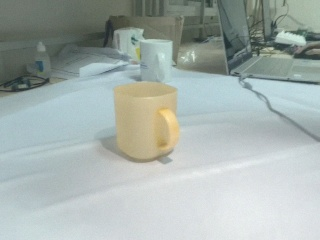bottle: (25, 42, 51, 80)
cup: (112, 81, 181, 162), (135, 36, 177, 83)
